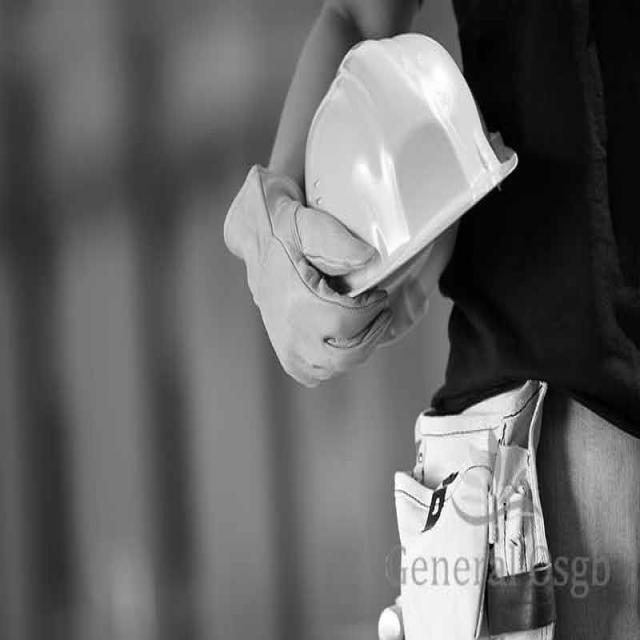safety_helmet: (303, 33, 518, 300)
